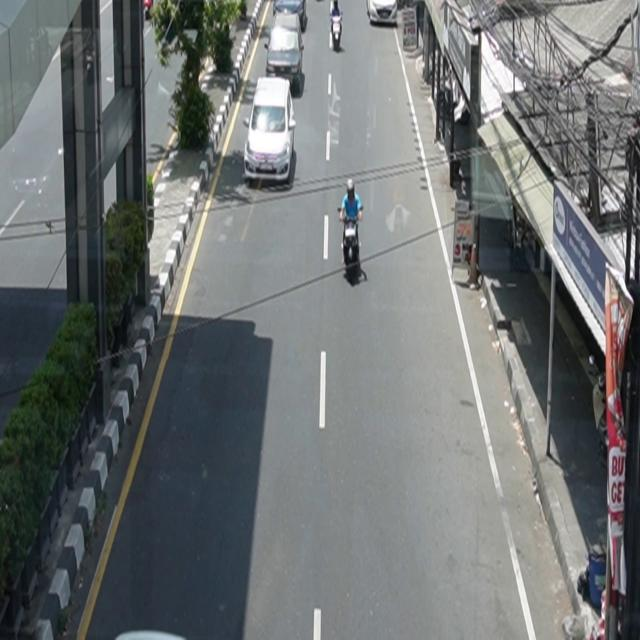car: (244, 77, 297, 185), (265, 14, 305, 93), (273, 1, 309, 33), (367, 1, 398, 26)
